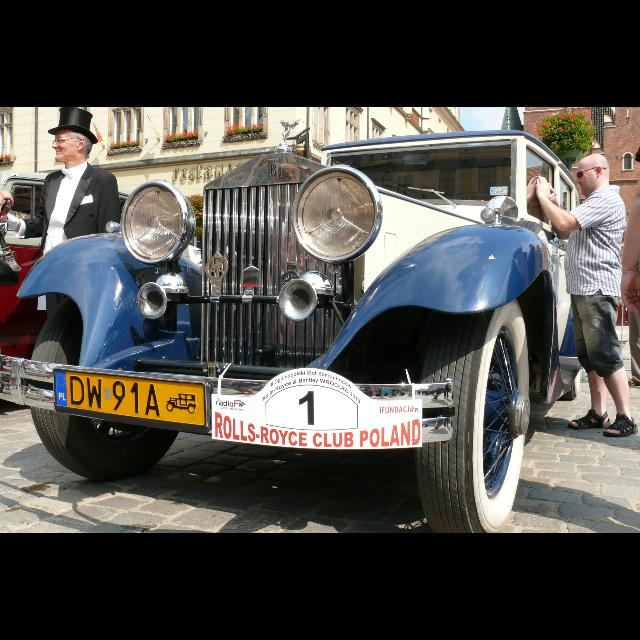pl_license_plate: (54, 370, 206, 428)
